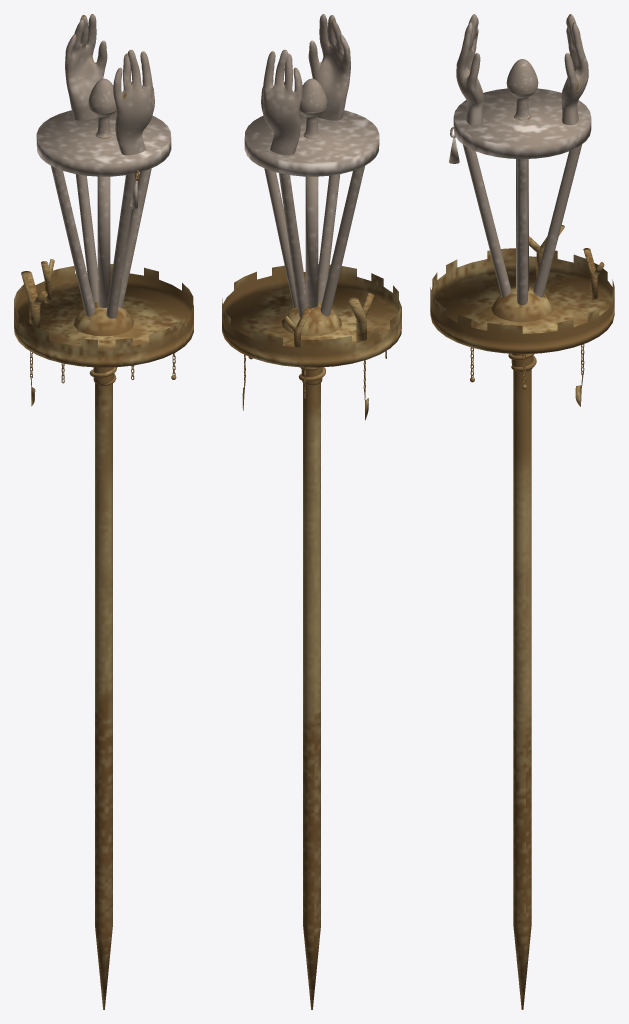
The picture shows the model from 3 angles, left to right: view 1: azimuth 30°, elevation 25°; view 2: azimuth 150°, elevation 25°; view 3: azimuth 270°, elevation 25°; orthographic projection. The views are drawn at different scales.
Parts seen in each view (by area): view 1: SOCLE BAS, pied, tube, hand, socle haut, BALLE, anl, tree 1; view 2: SOCLE BAS, pied, tube, hand, socle haut, anl, BALLE, tree 1; view 3: SOCLE BAS, pied, socle haut, tube, hand, BALLE, anl, TREE 2.
Boxes of the visible parts, x1,y1,x2,y2 form: SOCLE BAS: (14, 264, 193, 367); pied: (95, 383, 112, 1009); tube: (51, 166, 151, 318); hand: (65, 14, 154, 155); socle haut: (36, 110, 171, 176); BALLE: (74, 302, 133, 336); anl: (88, 78, 116, 138); tree 1: (21, 271, 47, 328); SOCLE BAS: (222, 264, 401, 367); pied: (303, 383, 320, 1009); tube: (264, 166, 364, 317); hand: (261, 14, 350, 155); socle haut: (244, 110, 379, 176); anl: (299, 78, 327, 138); BALLE: (282, 302, 341, 336); tree 1: (348, 293, 374, 342); SOCLE BAS: (430, 248, 614, 353); pied: (513, 370, 531, 1009); socle haut: (453, 88, 591, 158); tube: (463, 144, 581, 305); hand: (456, 14, 588, 125); BALLE: (491, 287, 553, 322); anl: (506, 59, 538, 120); TREE 2: (583, 248, 604, 299).
Size of the model in its own units: 200 by 1195 by 200.
1 material, 1 textured.
